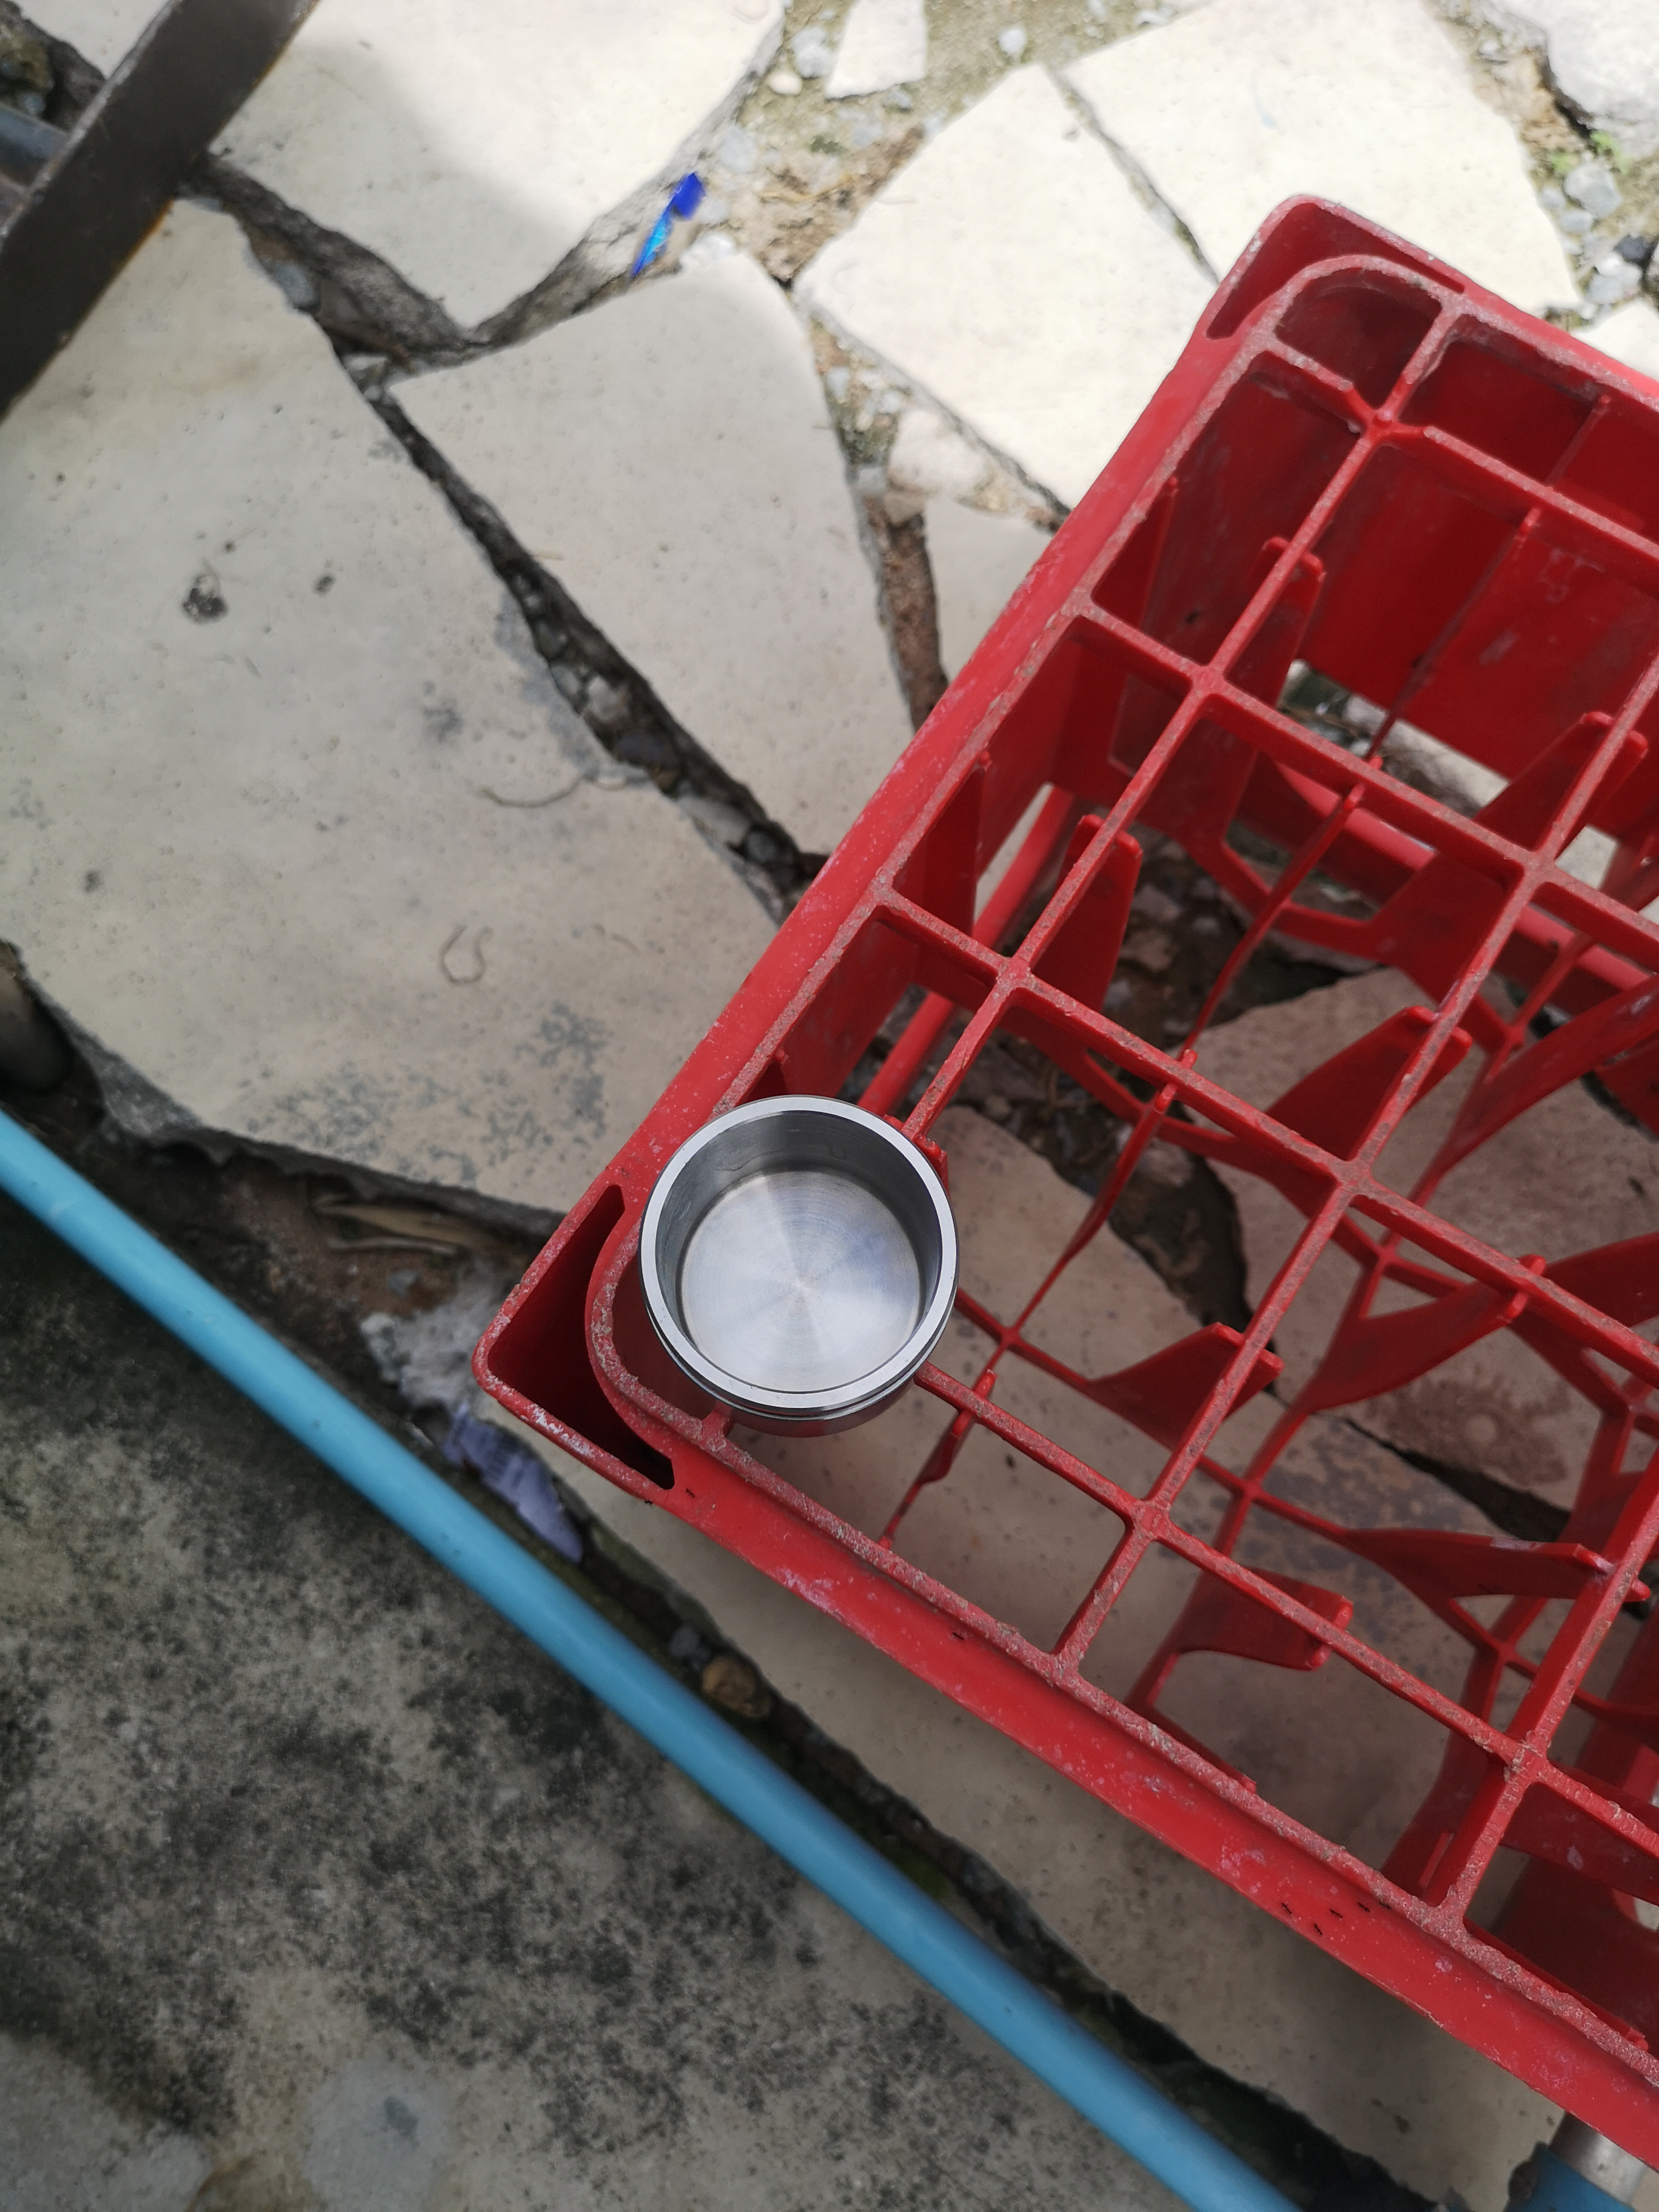ลูกสูบดิสเบรค: (598, 1096, 964, 1463)
